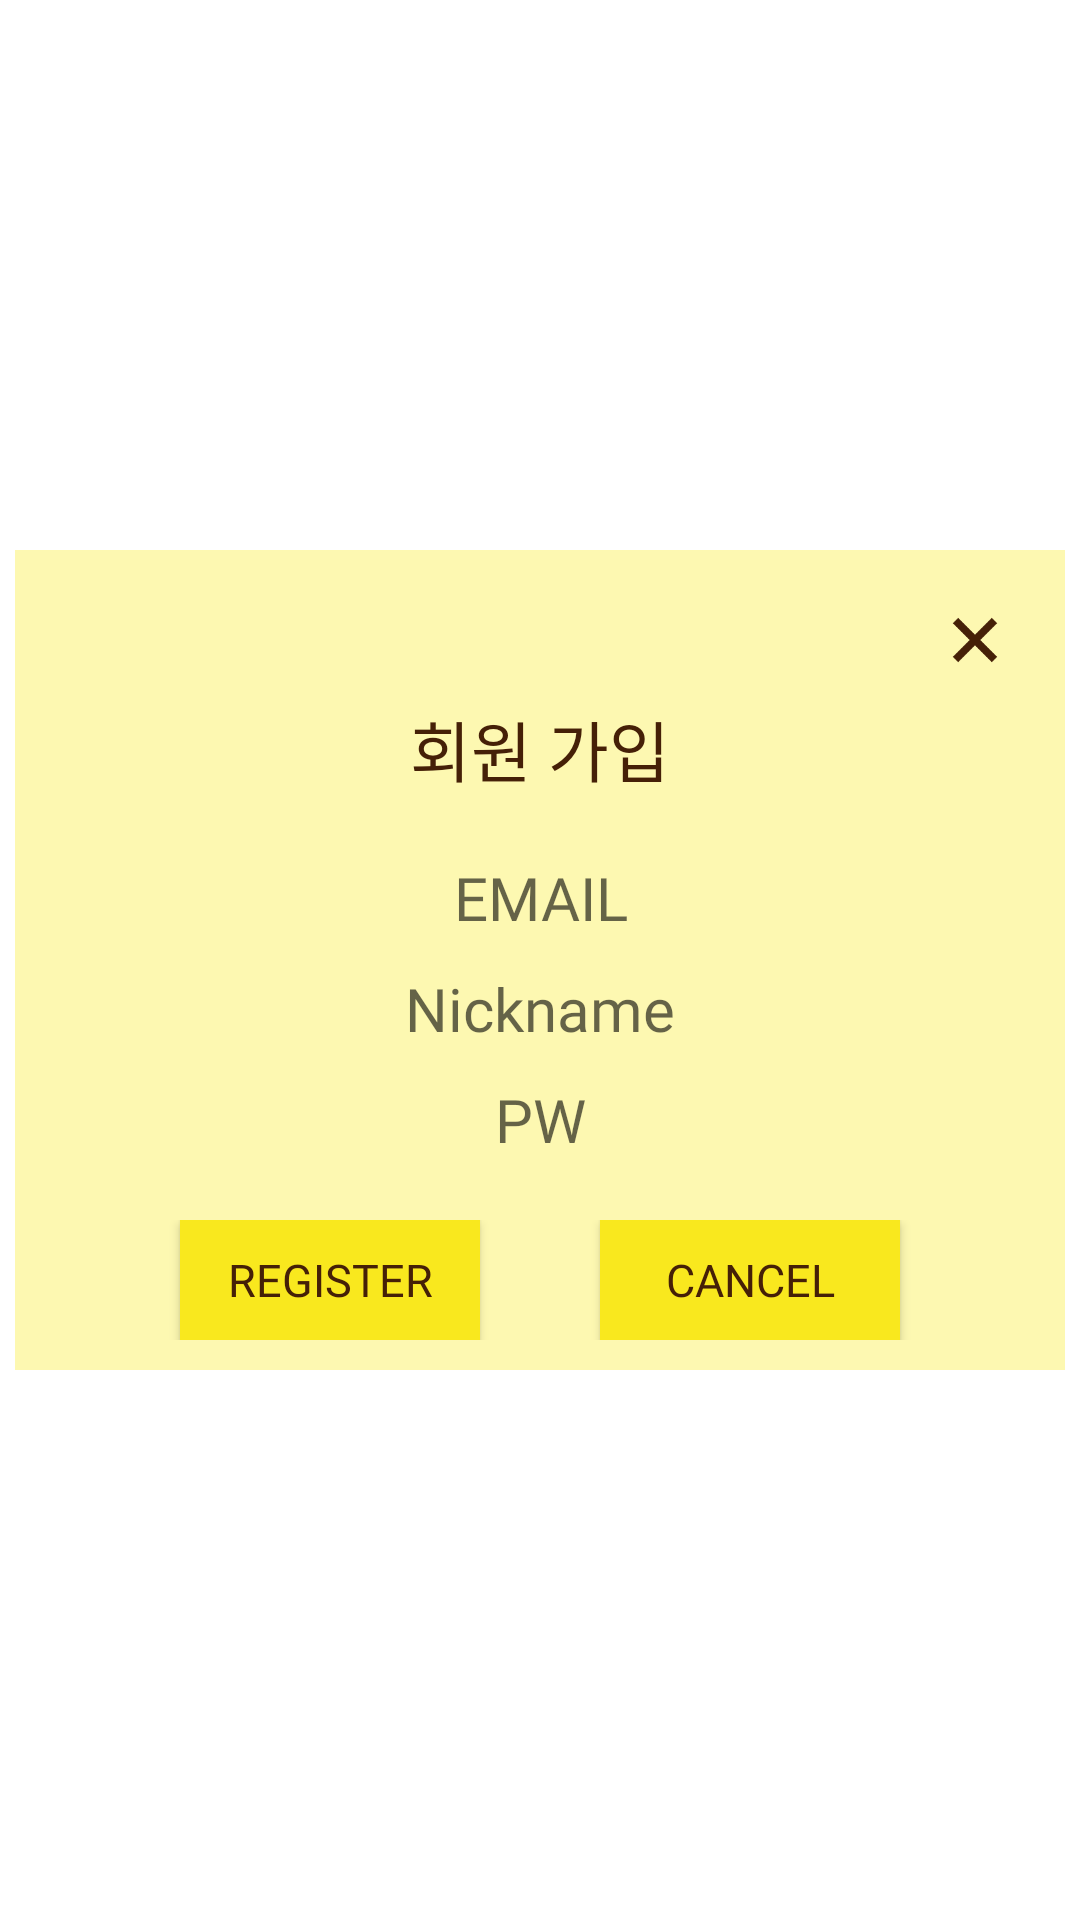

Icons on this 1080px×1920px Android screen, each with the point to tap as [x,y]:
closebutton: [975,640]
